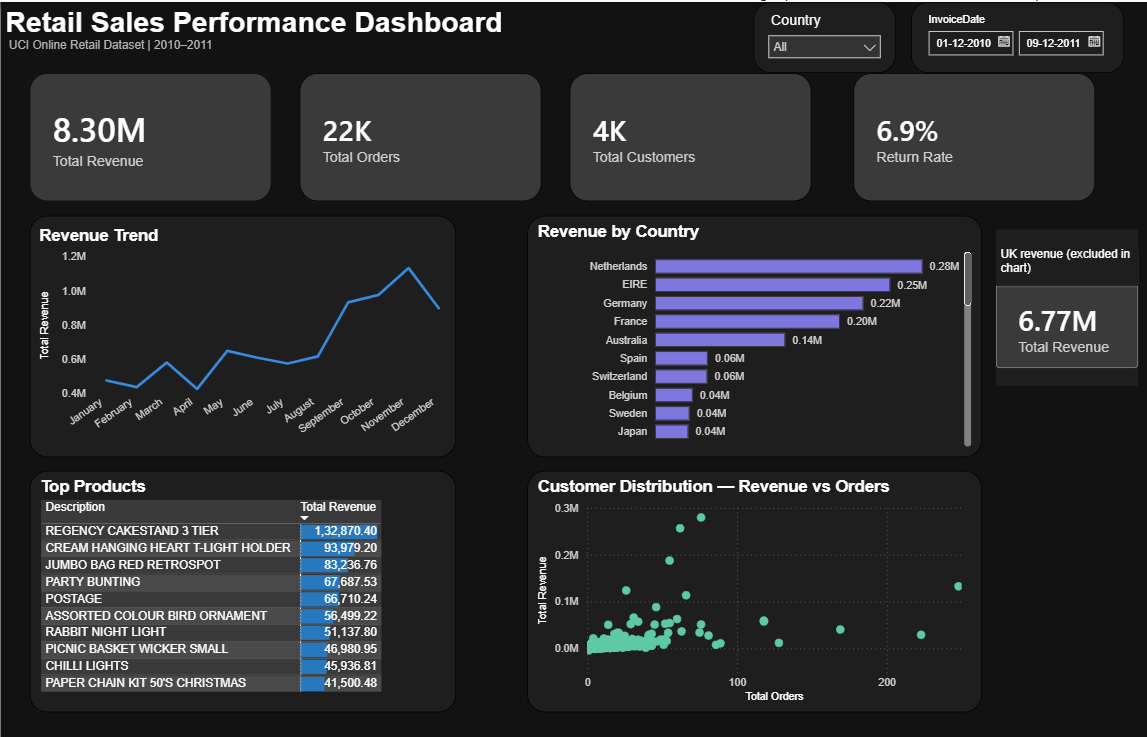

This screenshot's page, from the dashboard's own definition file:
{"tool":"powerbi","page":{"name":"Page 1","canvas":[1300,840],"ordinal":0},"visuals":[{"type":"textbox","box":[0,0,1280,80],"z":0},{"type":"cardVisual","fields":{"Data":["retail_project retail_sales_view.Return Rate"]},"box":[960,80,272,144],"z":1000},{"type":"cardVisual","fields":{"Data":["retail_project retail_sales_view.Total Orders"]},"box":[336,80,272,144],"z":2000},{"type":"cardVisual","fields":{"Data":["retail_project retail_sales_view.Total Revenue"]},"box":[32,80,272,144],"z":3000},{"type":"cardVisual","fields":{"Data":["retail_project retail_sales_view.Total Customers"]},"box":[640,80,272,144],"z":4000},{"type":"lineChart","title":"Revenue Trend","fields":{"Y":["retail_project retail_sales_view.Total Revenue"],"Category":["retail_project retail_sales_view.invoice_month_name"]},"box":[32,240,480,272],"z":5000},{"type":"clusteredBarChart","title":"Revenue by Country","fields":{"Category":["retail_project retail_sales_view.Country"],"Y":["retail_project retail_sales_view.Total Revenue"]},"box":[592,240,512,272],"z":5001},{"type":"cardVisual","fields":{"Data":["retail_project retail_sales_view.Total Revenue"],"Rows":["retail_project retail_sales_view.Country"]},"box":[1120,256,160,176],"z":5002},{"type":"textbox","box":[1120,272,160,48],"z":5003},{"type":"tableEx","title":"Top Products","fields":{"Values":["retail_project retail_sales_view.Description","retail_project retail_sales_view.Total Revenue"]},"box":[32,528,480,272],"z":5004},{"type":"scatterChart","title":"Customer Distribution — Revenue vs Orders","fields":{"X":["retail_project retail_sales_view.Total Orders"],"Y":["retail_project retail_sales_view.Total Revenue"],"Category":["retail_project retail_sales_view.CustomerID"]},"box":[592,528,512,272],"z":5005},{"type":"slicer","fields":{"Values":["retail_project retail_sales_view.Country"]},"box":[848,0,160,80],"z":5006},{"type":"slicer","fields":{"Values":["retail_project retail_sales_view.InvoiceDate"]},"box":[1024,0,240,80],"z":5007}]}

Visuals, with their boxes in screenshot pixels (x1, y1, x2, y2), scaled from the page's 1300x840 canvas onto the 1147x737 screenshot:
textbox: box(0, 0, 1129, 70)
cardVisual - retail_project retail_sales_view.Return Rate: box(847, 70, 1087, 197)
cardVisual - retail_project retail_sales_view.Total Orders: box(296, 70, 536, 197)
cardVisual - retail_project retail_sales_view.Total Revenue: box(28, 70, 268, 197)
cardVisual - retail_project retail_sales_view.Total Customers: box(565, 70, 805, 197)
"Revenue Trend" lineChart: box(28, 211, 452, 449)
"Revenue by Country" clusteredBarChart: box(522, 211, 974, 449)
cardVisual - retail_project retail_sales_view.Total Revenue x retail_project retail_sales_view.Country: box(988, 225, 1129, 379)
textbox: box(988, 239, 1129, 281)
"Top Products" tableEx: box(28, 463, 452, 702)
"Customer Distribution — Revenue vs Orders" scatterChart: box(522, 463, 974, 702)
slicer - retail_project retail_sales_view.Country: box(748, 0, 889, 70)
slicer - retail_project retail_sales_view.InvoiceDate: box(903, 0, 1115, 70)
